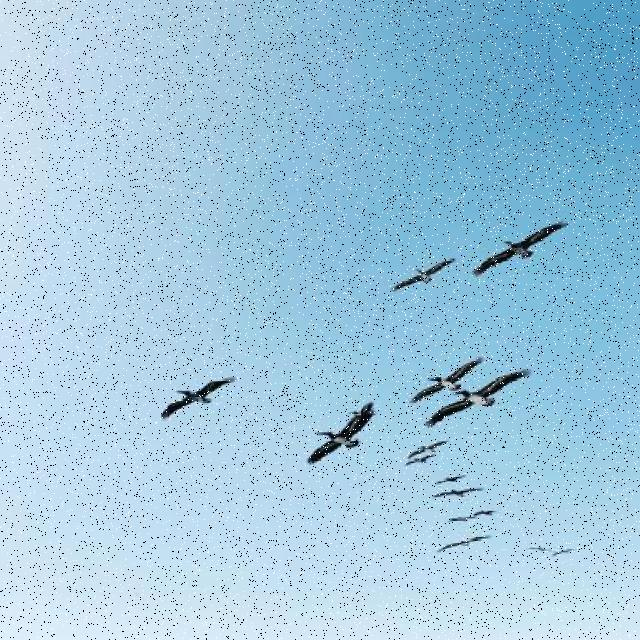bird: (424, 368, 532, 428), (472, 220, 570, 277), (307, 408, 376, 464), (410, 356, 484, 404), (160, 376, 237, 419), (391, 258, 457, 292), (436, 534, 493, 554), (406, 439, 451, 459), (347, 400, 375, 426), (432, 488, 486, 498), (404, 454, 438, 466), (435, 474, 468, 486), (552, 549, 578, 557), (446, 516, 477, 522), (527, 547, 556, 553), (472, 510, 500, 516)
